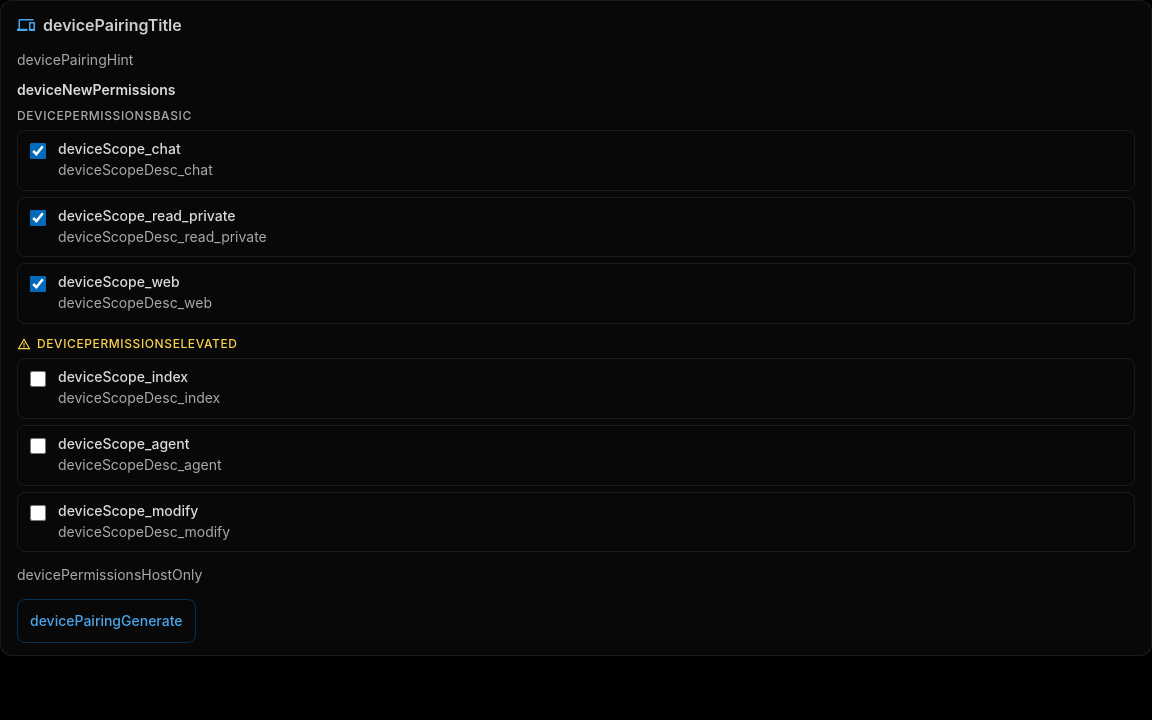
Test: DevicePairingCard › per-device permissions › does not allow a code without any permission
Expected: the button "devicePairingGenerate" is shown, [17,599,196,643]
Click the checkbox labelled "deviceScope_chat deviceScopeDesc_chat": {"x": 38, "y": 151} [30,143,46,159]
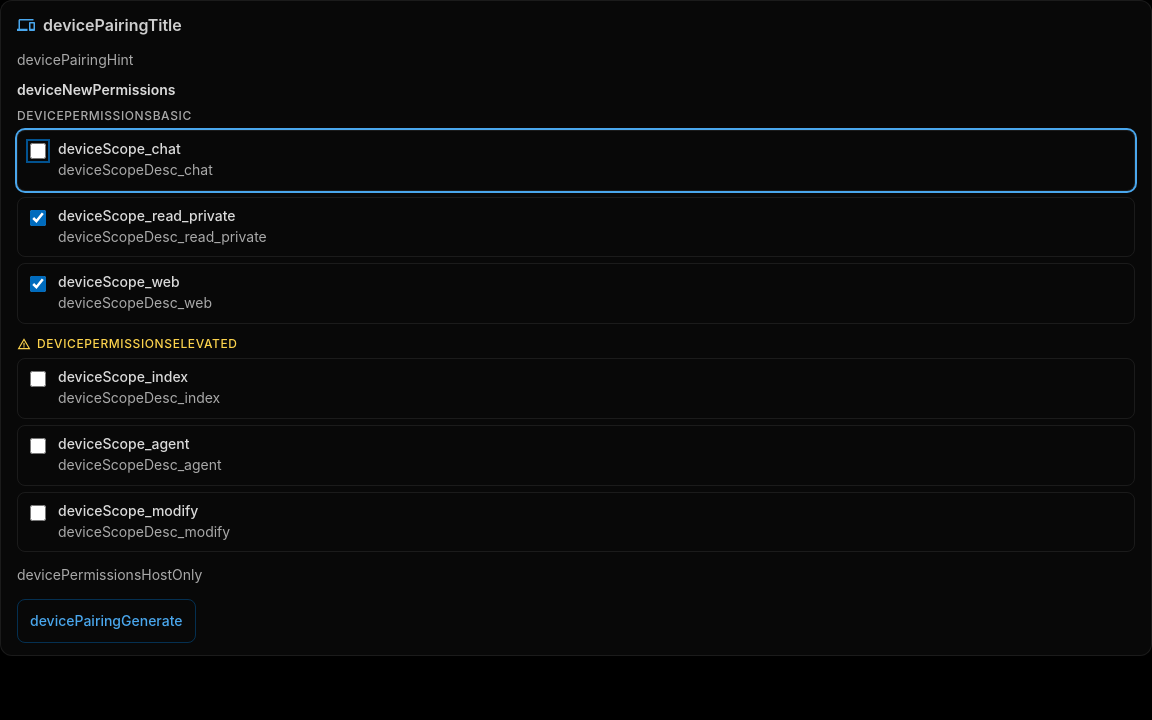
Click the checkbox labelled "deviceScope_read_private deviceScopeDesc_read_private": {"x": 38, "y": 218} [30,210,46,226]
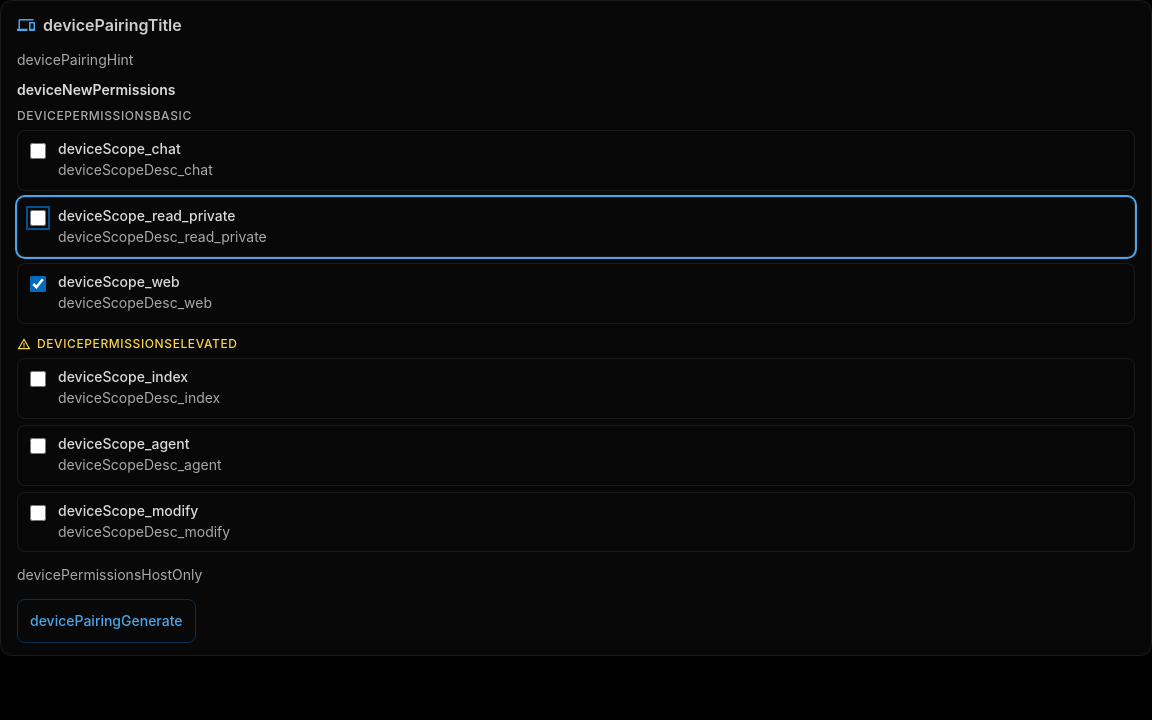
Click the checkbox labelled "deviceScope_web deviceScopeDesc_web": {"x": 38, "y": 284} [30,276,46,292]
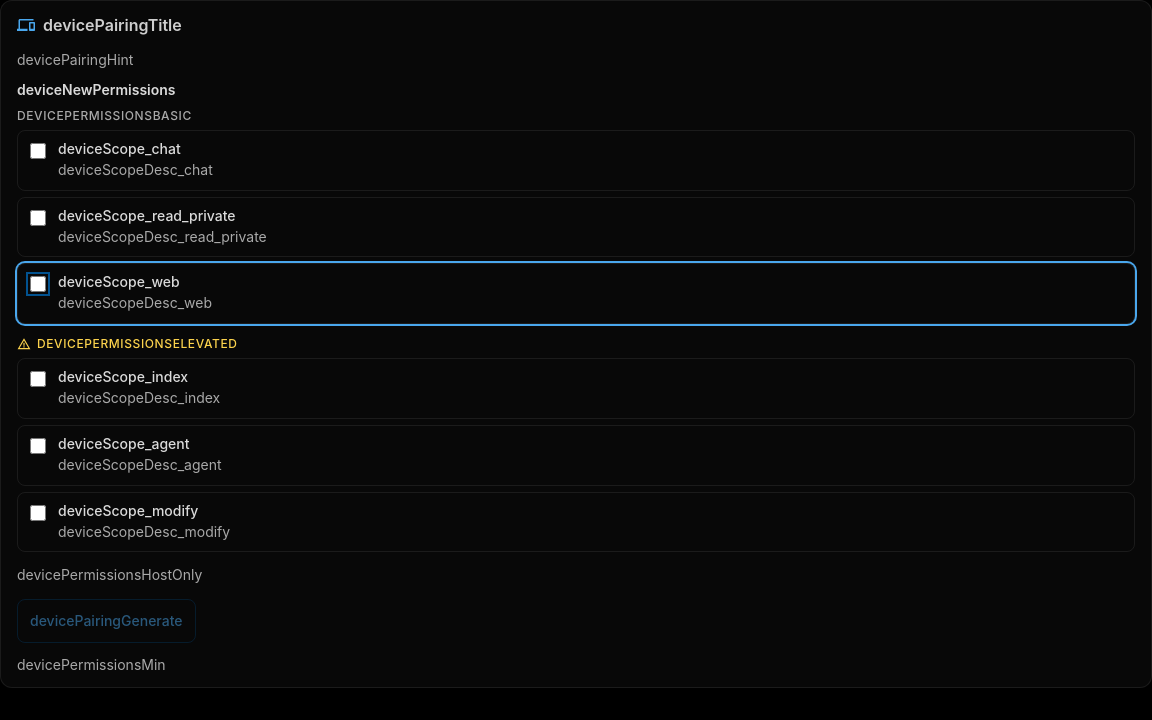
Result: the button "devicePairingGenerate" is disabled at [17,599,196,643]
Result: the text "devicePermissionsMin" is shown at [17,656,166,673]
